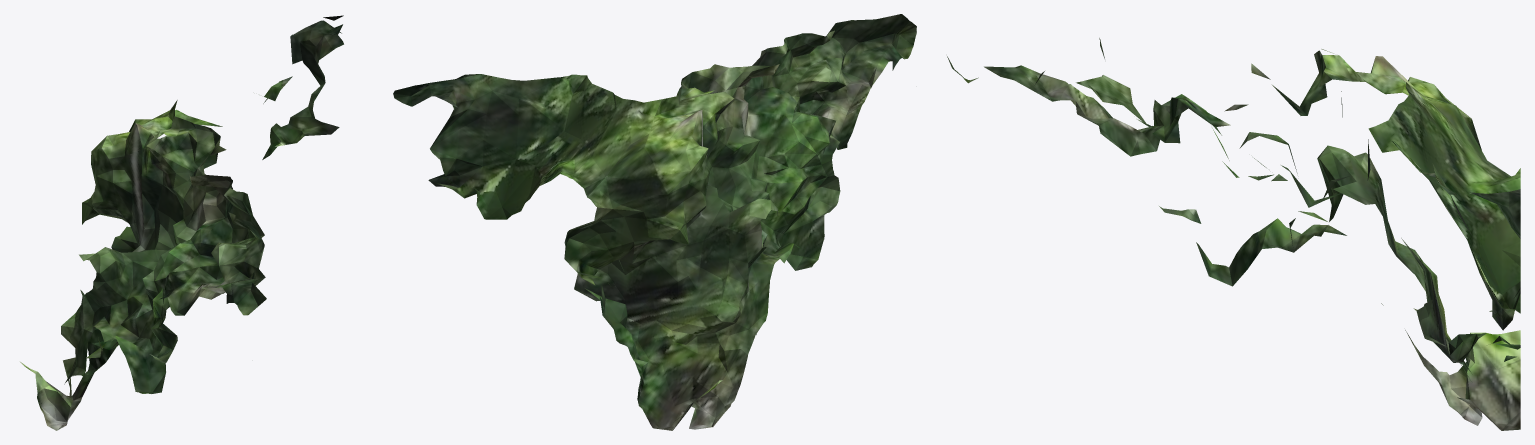
The picture shows the model from 3 angles, left to right: view 1: azimuth 30°, elevation 25°; view 2: azimuth 150°, elevation 25°; view 3: azimuth 270°, elevation 25°; orthographic projection. The views are drawn at different scales.
Bounding box in the file's own units: 19.94 × 17.71 × 23.59.
2 materials, 2 textured.
